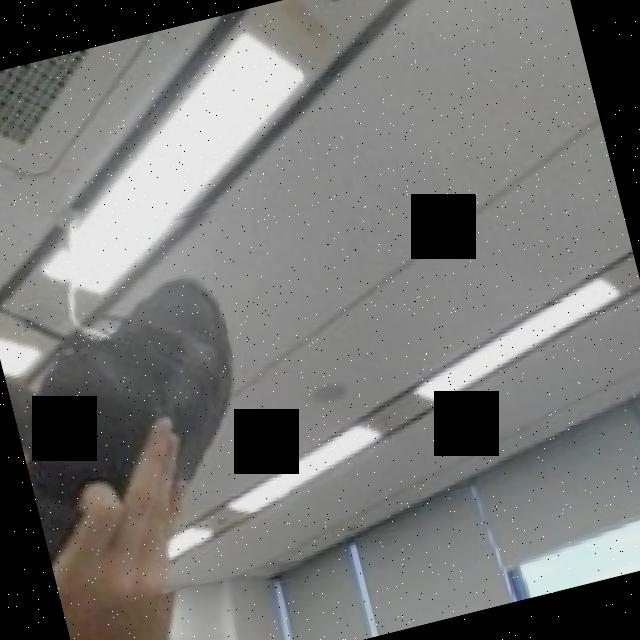shoe: (0, 202, 316, 618)
